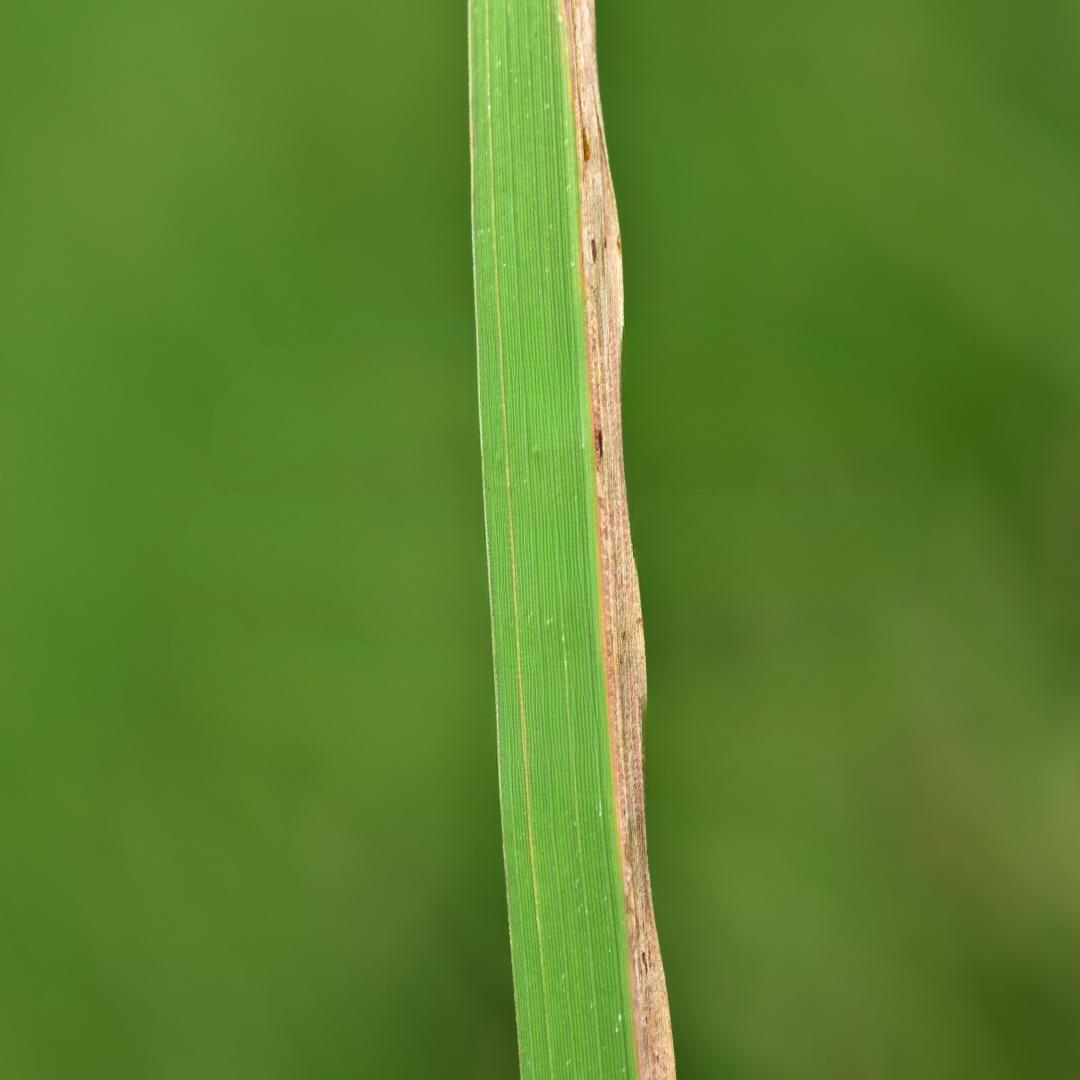BLB: (560, 0, 676, 1079)
